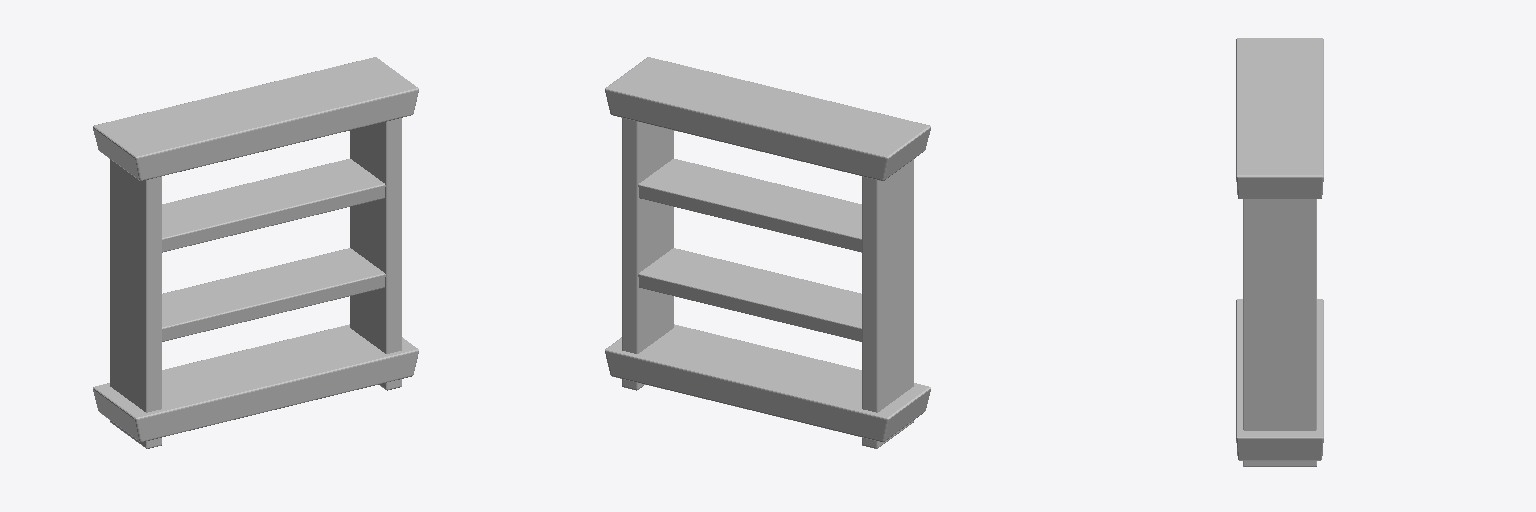
File: bookcaseWide.obj
3 views of the same model, side by side, from view 1: azimuth 30°, elevation 25°; view 2: azimuth 150°, elevation 25°; view 3: azimuth 270°, elevation 25° (orthographic).
Visible parts, largest first — view 1: bookcaseWide_Cube.4085; view 2: bookcaseWide_Cube.4085; view 3: bookcaseWide_Cube.4085.
Part boxes in pixels (bbox=[...]): bookcaseWide_Cube.4085: bbox=[93, 57, 418, 448]; bookcaseWide_Cube.4085: bbox=[605, 57, 930, 448]; bookcaseWide_Cube.4085: bbox=[1236, 38, 1323, 466].
Size of the model in its own units: 1.99 by 2 by 0.5333.